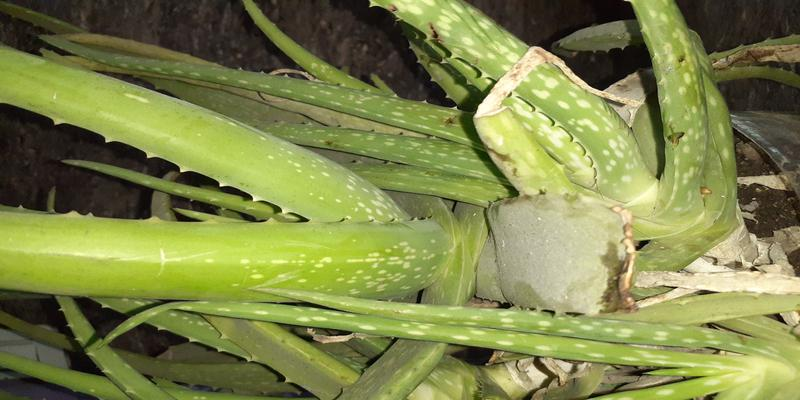Aloevera: (175, 41, 790, 397)
